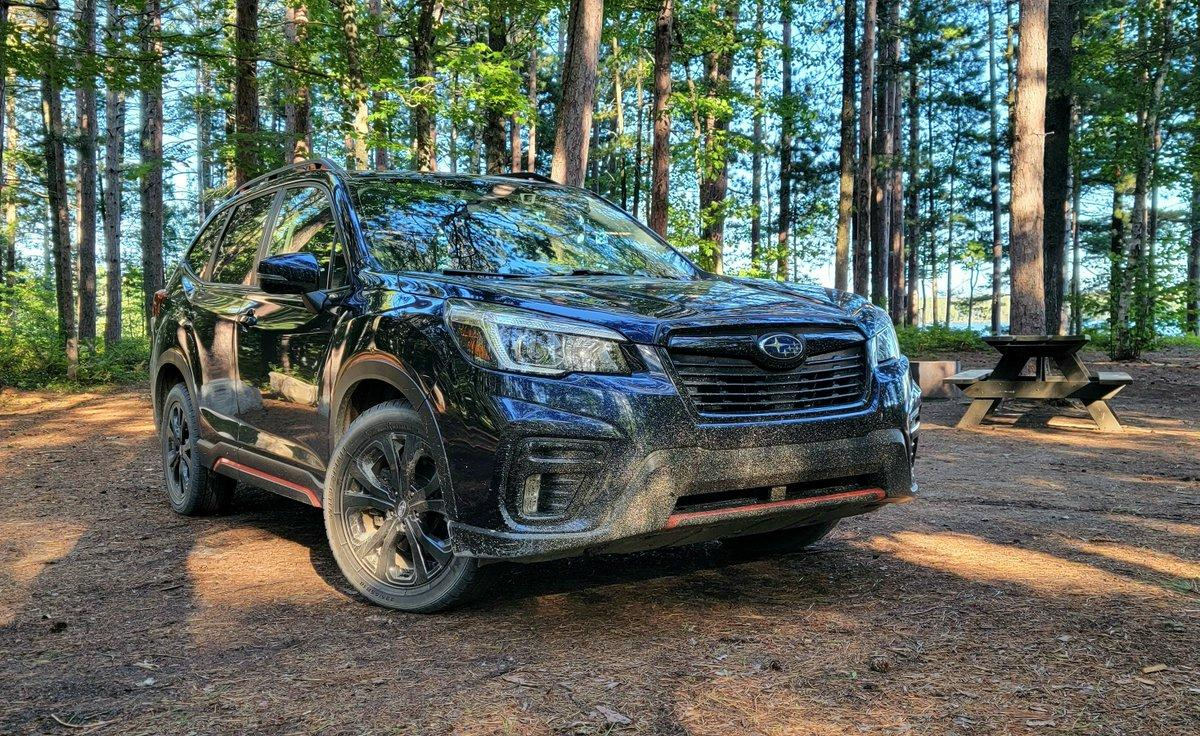subaru: (743, 320, 821, 369)
